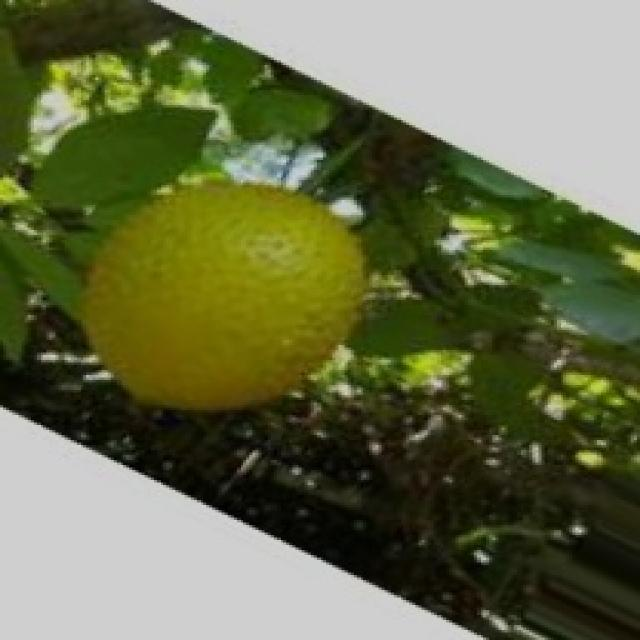Fruit: (22, 130, 409, 460)
